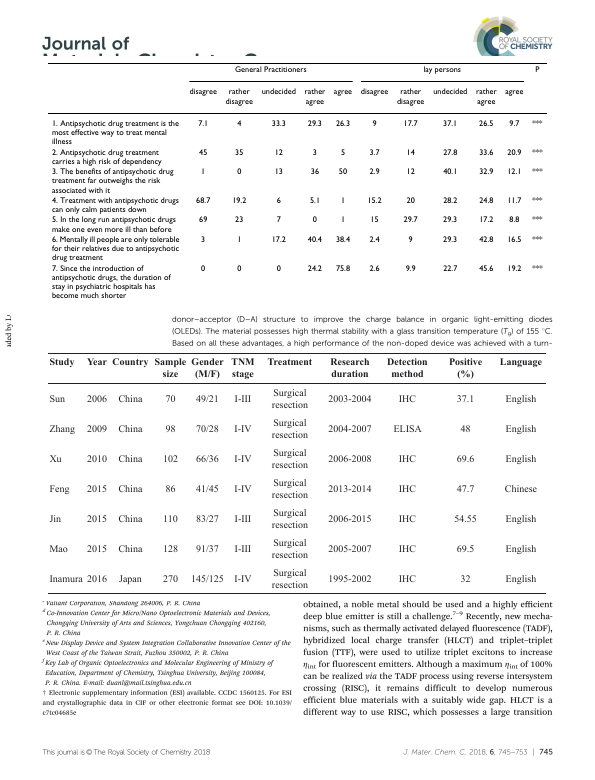borderless: (46, 61, 548, 309), (47, 352, 546, 593)
cell: (50, 264, 171, 301), (50, 235, 180, 263), (50, 119, 179, 147), (50, 167, 174, 196), (50, 215, 176, 235), (50, 196, 179, 215), (50, 148, 162, 167), (386, 358, 428, 381), (329, 358, 370, 381), (270, 418, 309, 442), (270, 389, 309, 412), (270, 448, 309, 471), (270, 478, 309, 501), (270, 508, 309, 531), (270, 538, 309, 561), (270, 568, 309, 591), (448, 358, 483, 381), (153, 358, 187, 381), (190, 358, 224, 381), (233, 65, 307, 75), (230, 358, 255, 381), (395, 88, 425, 107), (224, 88, 253, 107), (327, 424, 372, 436), (266, 358, 313, 369), (498, 358, 543, 369), (327, 395, 372, 406), (327, 454, 372, 465), (327, 484, 372, 495), (327, 514, 372, 525), (327, 544, 372, 555), (327, 574, 372, 585), (303, 88, 326, 107), (474, 88, 497, 107), (111, 358, 149, 369), (504, 424, 537, 436), (422, 65, 461, 75), (503, 484, 538, 495), (48, 574, 83, 585), (190, 574, 224, 585), (504, 395, 537, 406), (504, 454, 537, 465), (504, 514, 537, 525), (504, 544, 537, 555), (504, 574, 537, 585), (392, 424, 422, 436), (48, 424, 76, 436), (260, 88, 296, 97), (432, 88, 468, 97), (117, 424, 143, 436), (48, 358, 75, 369), (195, 424, 219, 436), (117, 395, 143, 406), (117, 454, 143, 465), (117, 484, 143, 495), (117, 514, 143, 525), (117, 544, 143, 555), (359, 88, 389, 97), (195, 395, 219, 406), (86, 424, 108, 436), (195, 454, 219, 465), (195, 484, 219, 495), (195, 514, 219, 525), (453, 514, 477, 525), (195, 544, 219, 555), (118, 574, 142, 585), (188, 88, 217, 97), (86, 358, 108, 369), (85, 395, 107, 406), (85, 454, 107, 465), (48, 484, 70, 495), (86, 484, 108, 495), (86, 514, 108, 525), (86, 544, 108, 555), (86, 574, 108, 585), (233, 424, 252, 436), (397, 395, 417, 406), (455, 395, 475, 406), (397, 454, 417, 465), (455, 454, 475, 465), (397, 484, 417, 495), (455, 484, 475, 495), (397, 514, 417, 525), (48, 544, 68, 555), (397, 544, 417, 555), (455, 544, 475, 555), (397, 574, 417, 585), (233, 395, 252, 406), (233, 454, 252, 465), (233, 484, 252, 495), (233, 514, 252, 525), (233, 544, 252, 555), (233, 574, 252, 585), (48, 395, 66, 406), (332, 88, 353, 97), (162, 454, 179, 465), (162, 544, 179, 555), (162, 574, 179, 585), (504, 88, 524, 97), (162, 514, 178, 525), (334, 235, 351, 245), (334, 264, 351, 274), (270, 119, 286, 129), (306, 119, 322, 129), (334, 119, 350, 129), (402, 119, 418, 129), (442, 119, 458, 129), (478, 119, 494, 129), (442, 148, 458, 158), (478, 148, 494, 158), (506, 148, 522, 158), (442, 167, 458, 177), (478, 167, 494, 177), (506, 167, 522, 177), (195, 196, 211, 206), (231, 196, 247, 206), (366, 196, 382, 206), (442, 196, 458, 206), (478, 196, 494, 206), (506, 196, 522, 206), (402, 215, 418, 225), (442, 215, 458, 225), (478, 215, 494, 225), (270, 235, 286, 245), (306, 235, 322, 245), (442, 235, 458, 245), (478, 235, 494, 245), (506, 235, 522, 245), (306, 264, 322, 274), (442, 264, 458, 274), (478, 264, 494, 274), (506, 264, 522, 274), (48, 454, 62, 465), (48, 514, 62, 525), (164, 424, 176, 436), (459, 424, 471, 436), (164, 395, 176, 406), (164, 484, 176, 495), (459, 574, 471, 585), (197, 119, 209, 129), (508, 119, 520, 129), (531, 119, 543, 129), (368, 148, 380, 158), (531, 148, 543, 158), (368, 167, 380, 177), (531, 167, 543, 177), (308, 196, 320, 206), (531, 196, 543, 206), (508, 215, 520, 225), (531, 215, 543, 225), (368, 235, 380, 245), (531, 235, 543, 245), (368, 264, 380, 274), (404, 264, 416, 274), (531, 264, 543, 274), (309, 167, 320, 177), (337, 167, 348, 177), (198, 148, 208, 158), (234, 148, 244, 158), (273, 148, 283, 158), (405, 148, 415, 158), (273, 167, 283, 177), (405, 167, 415, 177), (405, 196, 415, 206), (198, 215, 208, 225), (234, 215, 244, 225), (369, 215, 379, 225), (339, 148, 346, 158), (339, 196, 346, 206), (339, 215, 346, 225), (534, 65, 540, 75), (236, 119, 242, 129), (371, 119, 377, 129), (311, 148, 317, 158), (200, 167, 206, 177), (236, 167, 242, 177), (275, 196, 281, 206), (275, 215, 281, 225), (311, 215, 317, 225), (200, 235, 206, 245), (236, 235, 242, 245), (407, 235, 413, 245), (200, 264, 206, 274), (236, 264, 242, 274), (275, 264, 281, 274)
